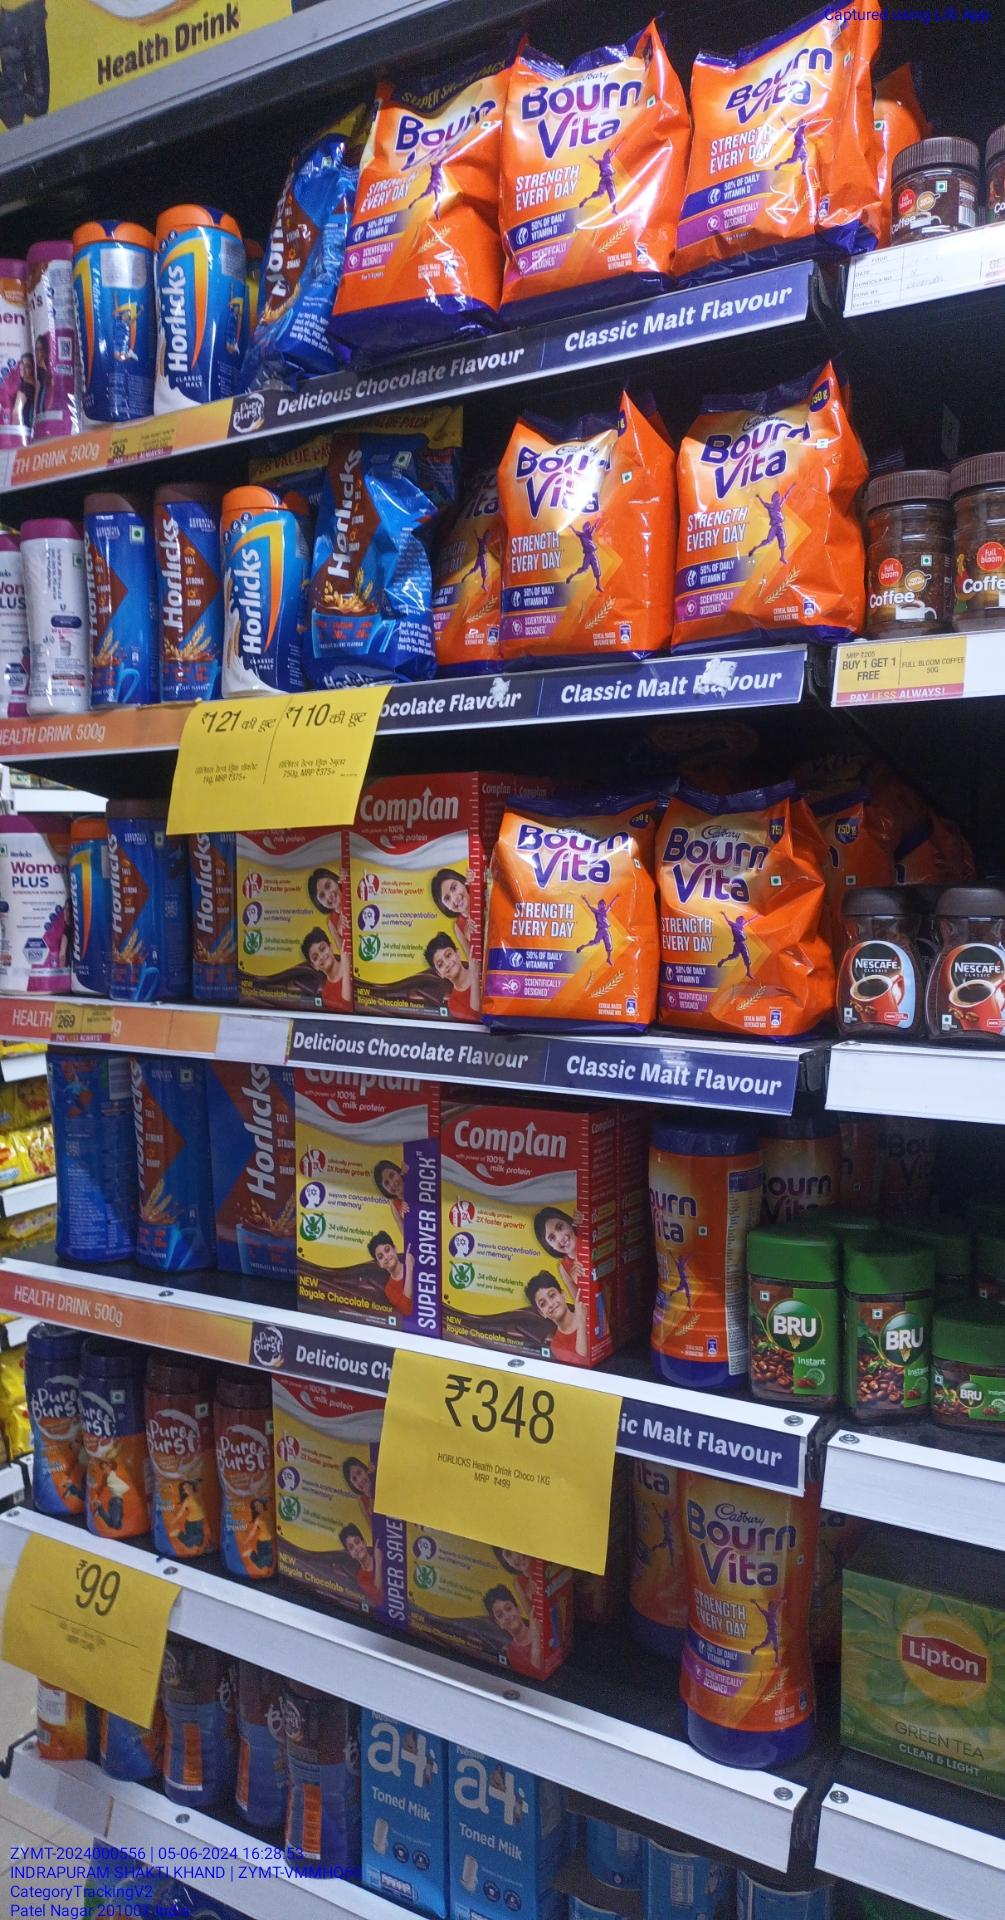BOURN_VITA_1_KG_JAR: (680, 1472, 820, 1768)
BOURN_VITA_1_KG_POUCH: (347, 52, 488, 325)
BOURN_VITA_500_G_JAR: (647, 1126, 741, 1392)
BOURN_VITA_750_G_POUCH: (503, 22, 664, 307), (673, 383, 849, 646), (661, 785, 821, 1048), (487, 791, 653, 1031), (685, 23, 859, 251), (503, 406, 649, 667)
HORLICK_CHOCOLATE_500_G_JAR: (86, 494, 147, 709), (107, 801, 169, 1004), (155, 486, 212, 702)
HORLICK_CHOCOLATE_750_G_POUCH: (307, 414, 426, 678)
HORLICK_CLASSIC_MALT_500_G_JAR: (220, 485, 295, 695), (154, 212, 225, 406)
